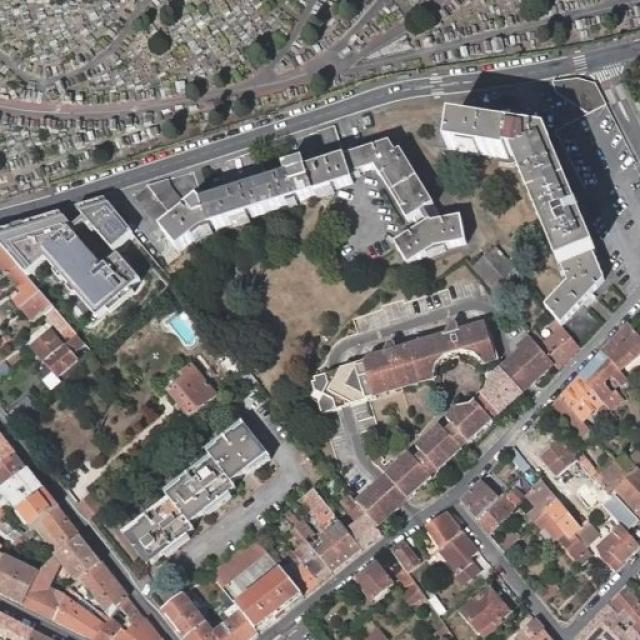immeuble: (127, 108, 472, 250), (338, 318, 562, 532), (440, 104, 616, 308), (0, 425, 161, 640), (121, 407, 267, 569), (310, 306, 506, 396), (157, 555, 211, 623)
maison: (213, 546, 319, 638), (536, 462, 606, 557), (288, 471, 362, 557), (18, 304, 91, 381), (562, 357, 629, 425), (428, 506, 488, 580), (356, 545, 427, 607), (452, 570, 518, 634), (468, 462, 518, 518), (165, 365, 215, 418)
piscine: (167, 309, 200, 350)
usine: (0, 195, 135, 303)
